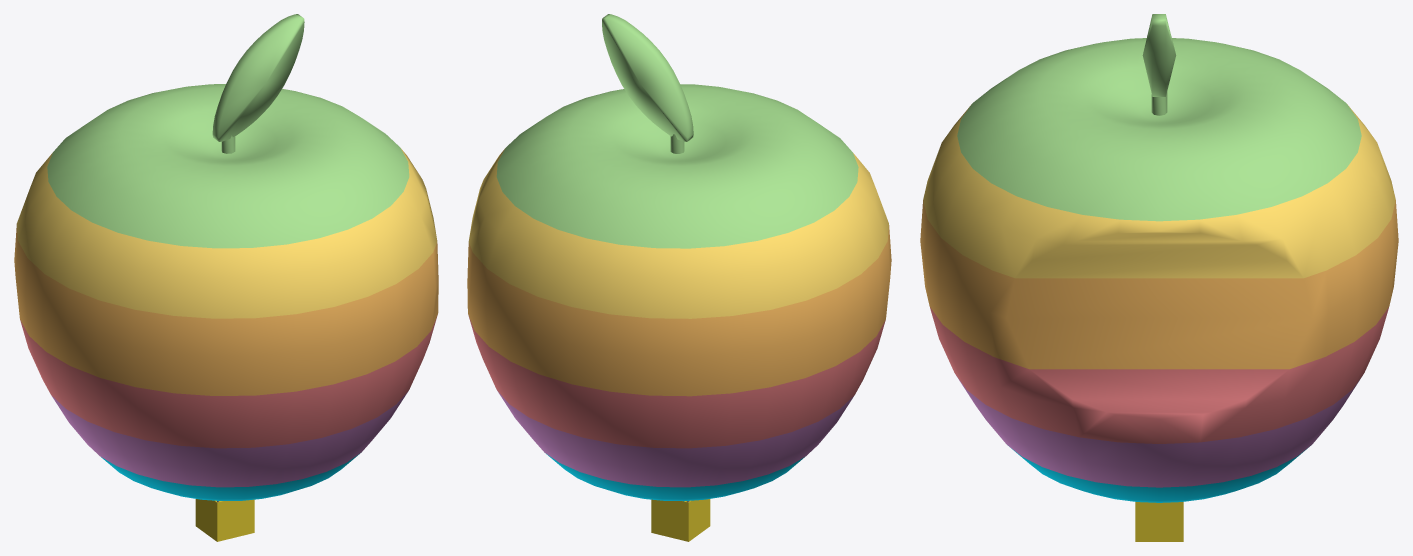
The model's file is balloon_appleoon.glb.
3 views of the same model, side by side, from view 1: azimuth 30°, elevation 25°; view 2: azimuth 150°, elevation 25°; view 3: azimuth 270°, elevation 25° (orthographic). The views are drawn at different scales.
Visible parts, largest first — view 1: airframe; view 2: airframe; view 3: airframe.
Boxes of the visible parts, left/top/right/bottom form: airframe: left=14, top=14, right=438, bottom=541; airframe: left=467, top=14, right=891, bottom=541; airframe: left=920, top=14, right=1398, bottom=541.
Size of the model in its own units: 43.96 by 58.01 by 45.54.
